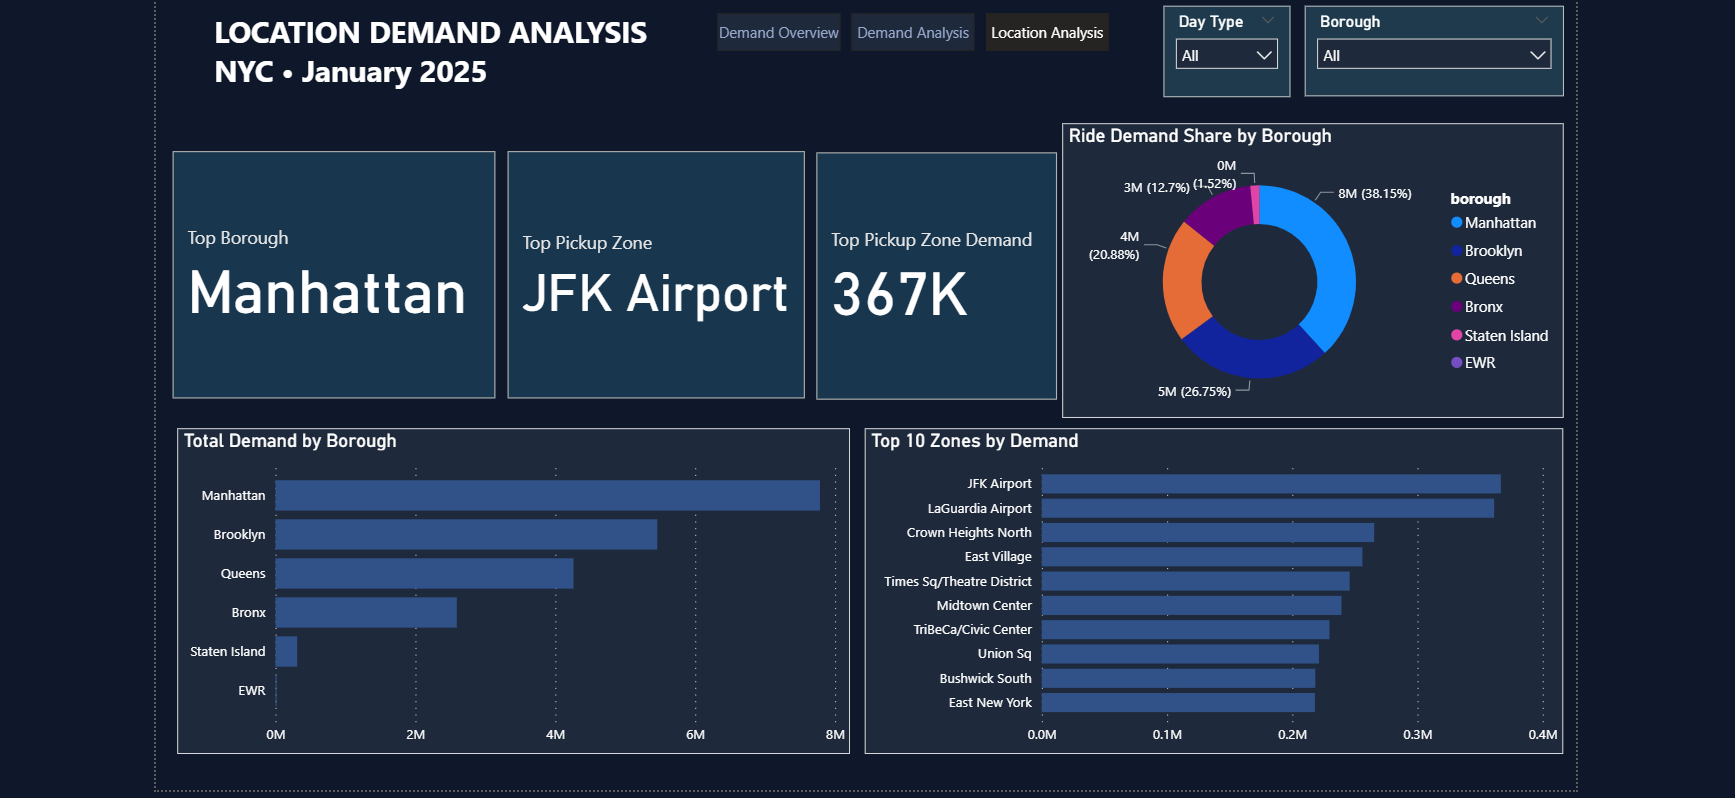

The dashboard page shown, as its layout file describes it:
{"tool":"powerbi","page":{"name":"Location Analysis","canvas":[1280,720],"ordinal":2},"visuals":[{"type":"textbox","box":[47.3,12.5,421.6,96],"z":0},{"type":"clusteredBarChart","title":"Total Demand by Borough","fields":{"Category":["public demand_hourly.borough"],"Y":["public demand_hourly.Total Demand"]},"box":[19.6,393.6,606.3,293.4],"z":1000},{"type":"clusteredBarChart","title":"Top 10 Zones by Demand","fields":{"Category":["public demand_hourly.zone"],"Y":["public demand_hourly.Total Demand"]},"box":[639.3,393.6,629.5,293.4],"z":2000},{"type":"cardVisual","fields":{"Data":["public demand_hourly.Top Borough"]},"box":[9.8,138.1,301.9,233.5],"z":3000},{"type":"cardVisual","fields":{"Data":["public demand_hourly.Top Pickup Zone"]},"box":[311.7,138.1,278.7,233.5],"z":4000},{"type":"cardVisual","fields":{"Data":["public demand_hourly.Top Zone Demand"]},"box":[590.4,139.4,227.4,233.5],"z":5000},{"type":"donutChart","title":"Ride Demand Share by Borough","fields":{"Category":["public demand_hourly.borough"],"Y":["public demand_hourly.Total Demand"]},"box":[816.7,118.3,452.2,265.7],"z":6000},{"type":"slicer","fields":{"Values":["public demand_hourly.Day Type"]},"box":[908.5,12.5,114.1,82.1],"z":7000},{"type":"slicer","fields":{"Values":["public demand_hourly.borough"]},"box":[1035.4,12.2,233.5,81.9],"z":8000},{"type":"pageNavigator","box":[506.4,19.5,353.4,34.8],"z":9000}]}

Visuals, with their boxes on the page's 1280x720 design canvas (x1, y1, x2, y2). These are canvas units, not pixel positions in the 1735x798 screenshot, which may show the page scaled, cropped or inside an application window:
textbox: bbox=[47, 12, 469, 108]
"Total Demand by Borough" clusteredBarChart: bbox=[20, 394, 626, 687]
"Top 10 Zones by Demand" clusteredBarChart: bbox=[639, 394, 1269, 687]
cardVisual - public demand_hourly.Top Borough: bbox=[10, 138, 312, 372]
cardVisual - public demand_hourly.Top Pickup Zone: bbox=[312, 138, 590, 372]
cardVisual - public demand_hourly.Top Zone Demand: bbox=[590, 139, 818, 373]
"Ride Demand Share by Borough" donutChart: bbox=[817, 118, 1269, 384]
slicer - public demand_hourly.Day Type: bbox=[908, 12, 1023, 95]
slicer - public demand_hourly.borough: bbox=[1035, 12, 1269, 94]
pageNavigator: bbox=[506, 20, 860, 54]
